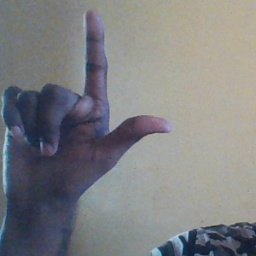L: (2, 8, 176, 203)
